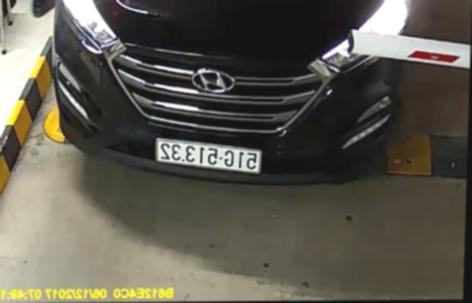License_Plate: (152, 133, 267, 176)
